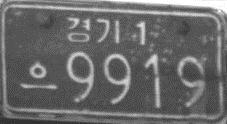1: (139, 53, 171, 109), (130, 20, 150, 47)
9: (101, 51, 132, 104), (176, 56, 206, 108), (66, 50, 95, 103)
경기_O: (65, 15, 121, 45)
으: (19, 60, 58, 91)
